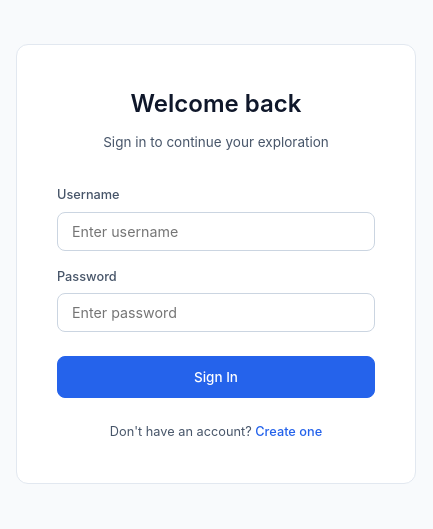
Scenario: Login Page › displays error feedback and does not navigate when login fails
In the field labelled "Username": (216, 231) [57,212,375,251], type "wronguser"
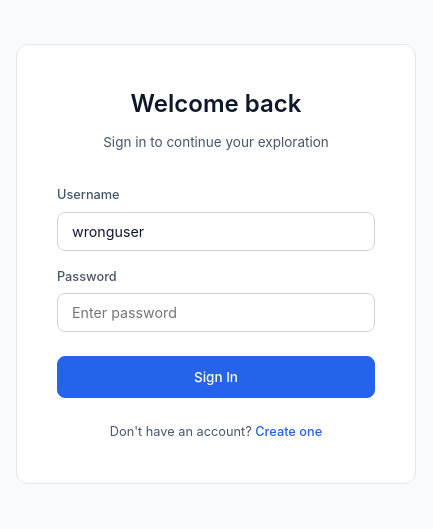
In the password field labelled "Password": (216, 313) [57,293,375,332], type "wrongpass"
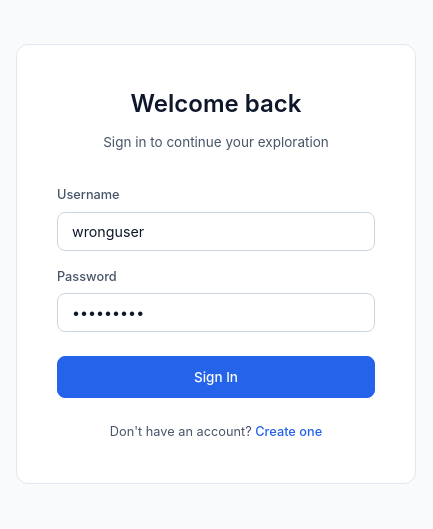
Click the button "Sign In": (216, 377) [57,356,375,398]
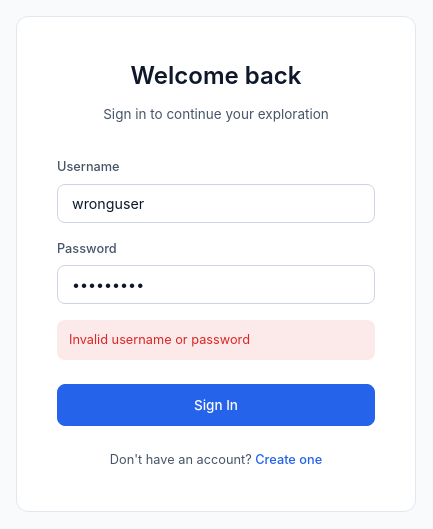
Result: the text "Invalid username or password" is shown at [57,320,375,360]
